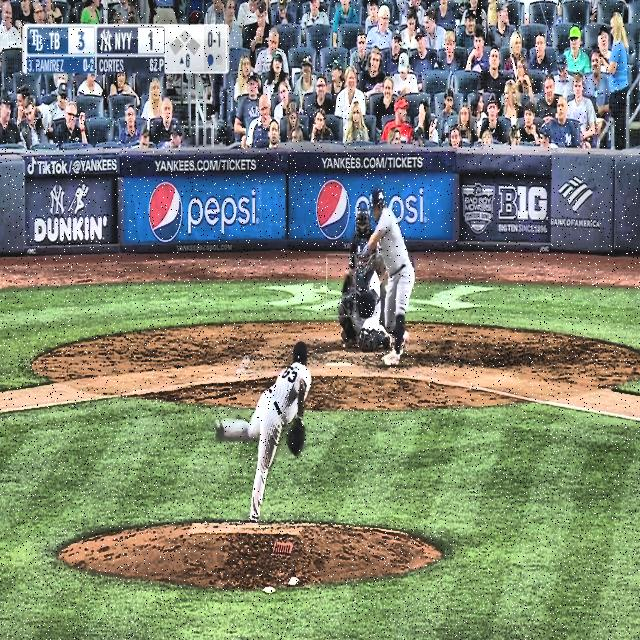baseball: (320, 284, 328, 293)
